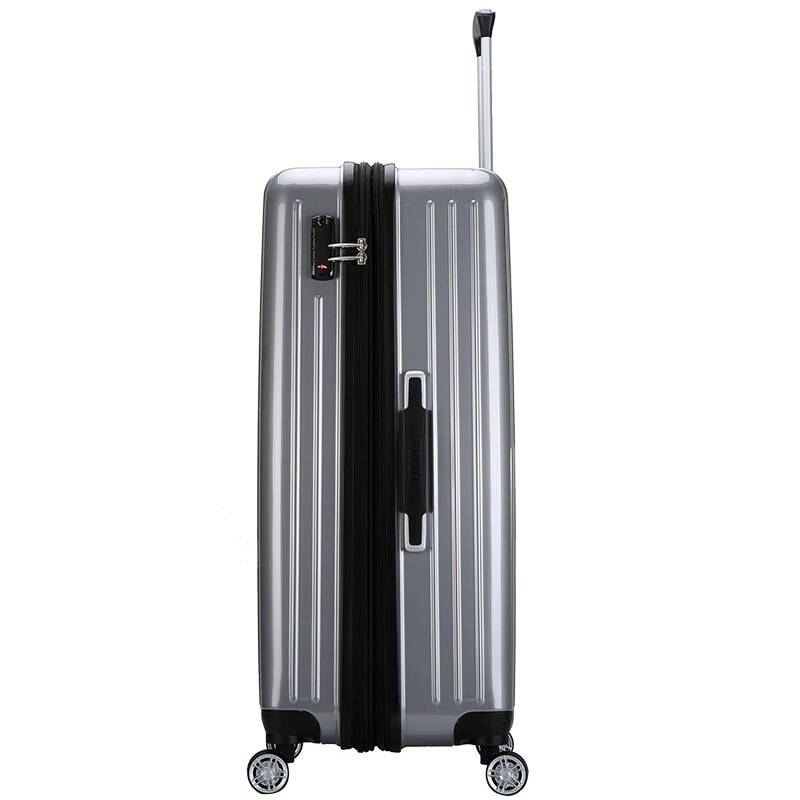luggage: (247, 9, 532, 796)
